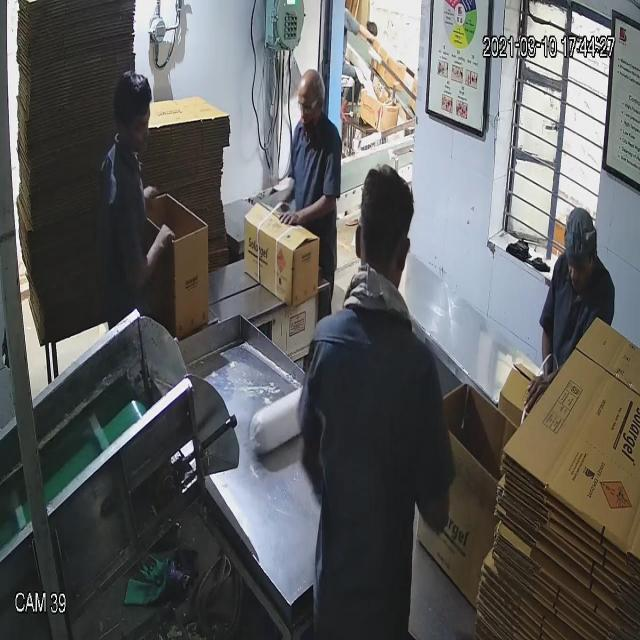No_Gloves: (49, 54, 306, 254)
